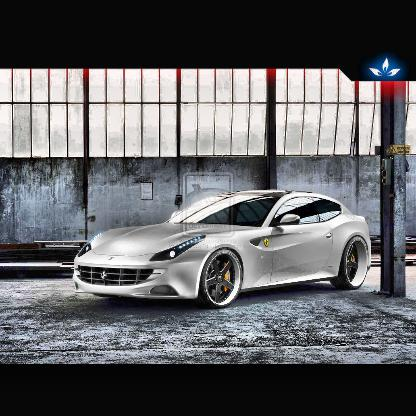Ferrari FF Coupe 2012: (72, 186, 375, 313)
